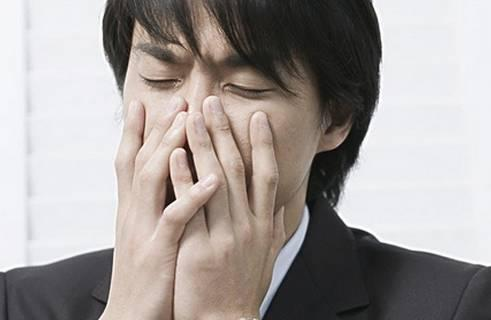face: (122, 1, 319, 237)
